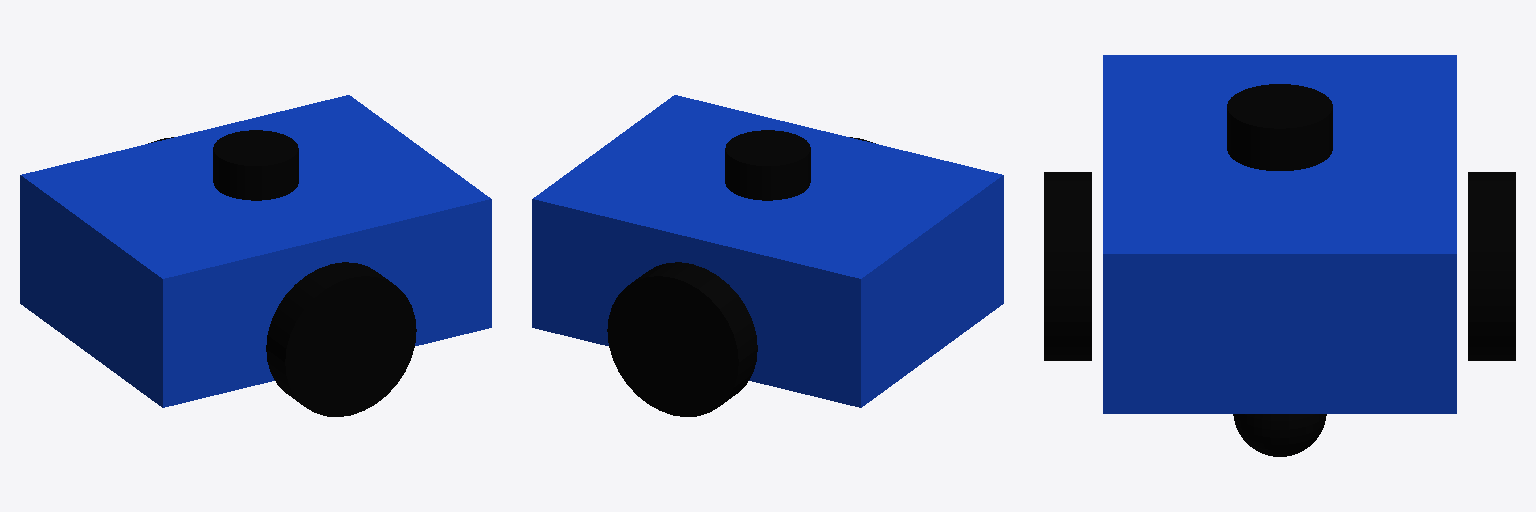
robot.urdf — lidar_bot:
<?xml version="1.0"?>

<robot name="lidar_bot">

  <!-- ========================= -->
  <!-- BASE FOOTPRINT             -->
  <!-- ========================= -->

  <link name="base_footprint"/>

  <joint name="base_footprint_joint" type="fixed">
    <parent link="base_footprint"/>
    <child link="base_link"/>
    <origin xyz="0 0 0.05" rpy="0 0 0"/>
  </joint>


  <!-- ========================= -->
  <!-- MAIN BODY                  -->
  <!-- ========================= -->

  <link name="base_link">

    <inertial>
      <origin xyz="0 0 0" rpy="0 0 0"/>
      <mass value="5.0"/>

      <inertia
        ixx="0.10"
        ixy="0.0"
        ixz="0.0"
        iyy="0.10"
        iyz="0.0"
        izz="0.15"/>
    </inertial>

    <visual>
      <origin xyz="0 0 0" rpy="0 0 0"/>

      <geometry>
        <box size="0.40 0.30 0.15"/>
      </geometry>

      <material name="blue">
        <color rgba="0.1 0.3 0.8 1"/>
      </material>
    </visual>

    <collision>
      <origin xyz="0 0 0" rpy="0 0 0"/>

      <geometry>
        <box size="0.40 0.30 0.15"/>
      </geometry>
    </collision>

  </link>


  <!-- ========================= -->
  <!-- LEFT WHEEL                 -->
  <!-- ========================= -->

  <link name="left_wheel_link">

    <inertial>
      <mass value="0.5"/>

      <inertia
        ixx="0.001"
        ixy="0"
        ixz="0"
        iyy="0.001"
        iyz="0"
        izz="0.001"/>
    </inertial>

    <visual>
      <geometry>
        <cylinder radius="0.08" length="0.04"/>
      </geometry>

      <material name="black">
        <color rgba="0.05 0.05 0.05 1"/>
      </material>

      <origin rpy="1.5708 0 0"/>
    </visual>

    <collision>
      <geometry>
        <cylinder radius="0.08" length="0.04"/>
      </geometry>

      <origin rpy="1.5708 0 0"/>
    </collision>

  </link>


  <joint name="left_wheel_joint" type="continuous">

    <parent link="base_link"/>
    <child link="left_wheel_link"/>

    <origin xyz="0 0.18 -0.03" rpy="0 0 0"/>

    <axis xyz="0 1 0"/>

  </joint>


  <!-- ========================= -->
  <!-- RIGHT WHEEL                -->
  <!-- ========================= -->

  <link name="right_wheel_link">

    <inertial>
      <mass value="0.5"/>

      <inertia
        ixx="0.001"
        ixy="0"
        ixz="0"
        iyy="0.001"
        iyz="0"
        izz="0.001"/>
    </inertial>

    <visual>
      <geometry>
        <cylinder radius="0.08" length="0.04"/>
      </geometry>

      <material name="black"/>

      <origin rpy="1.5708 0 0"/>
    </visual>

    <collision>
      <geometry>
        <cylinder radius="0.08" length="0.04"/>
      </geometry>

      <origin rpy="1.5708 0 0"/>
    </collision>

  </link>


  <joint name="right_wheel_joint" type="continuous">

    <parent link="base_link"/>
    <child link="right_wheel_link"/>

    <origin xyz="0 -0.18 -0.03" rpy="0 0 0"/>

    <axis xyz="0 1 0"/>

  </joint>


  <!-- ========================= -->
  <!-- FRONT CASTER               -->
  <!-- ========================= -->

  <link name="caster_link">

    <inertial>
      <mass value="0.2"/>

      <inertia
        ixx="0.0005"
        ixy="0"
        ixz="0"
        iyy="0.0005"
        iyz="0"
        izz="0.0005"/>
    </inertial>

    <visual>

      <geometry>
        <sphere radius="0.04"/>
      </geometry>

      <material name="black"/>

    </visual>

    <collision>

      <geometry>
        <sphere radius="0.04"/>
      </geometry>

    </collision>

  </link>


  <joint name="caster_joint" type="fixed">

    <parent link="base_link"/>
    <child link="caster_link"/>

    <origin xyz="0.16 0 -0.09" rpy="0 0 0"/>

  </joint>


  <!-- ========================= -->
  <!-- LIDAR                      -->
  <!-- ========================= -->

  <link name="lidar_link">

    <visual>

      <geometry>
        <cylinder radius="0.045" length="0.04"/>
      </geometry>

      <material name="black"/>

    </visual>

    <collision>

      <geometry>
        <cylinder radius="0.045" length="0.04"/>
      </geometry>

    </collision>

  </link>


  <joint name="lidar_joint" type="fixed">

    <parent link="base_link"/>
    <child link="lidar_link"/>

    <!-- LiDAR is 20 cm above the ground -->
    <origin xyz="0 0 0.1" rpy="0 0 0"/>

  </joint>


  <!-- ========================= -->
  <!-- IMU                        -->
  <!-- ========================= -->

  <link name="imu_link">

    <visual>

      <geometry>
        <box size="0.04 0.04 0.02"/>
      </geometry>

      <material name="red">
        <color rgba="0.8 0.1 0.1 1"/>
      </material>

    </visual>

  </link>


  <joint name="imu_joint" type="fixed">

    <parent link="base_link"/>
    <child link="imu_link"/>

    <origin xyz="0 0 0" rpy="0 0 0"/>

  </joint>


  <!-- ========================= -->
  <!-- GAZEBO SIM LIDAR           -->
  <!-- ========================= -->

  <gazebo reference="lidar_link">

    <sensor name="lidar" type="gpu_lidar">

    <frame_id>lidar_link</frame_id>
    <gz_frame_id>lidar_link</gz_frame_id>

      <pose>0 0 0 0 0 0</pose>

      <update_rate>10</update_rate>

      <topic>/scan</topic>

      <ray>

        <scan>

          <horizontal>

            <samples>720</samples>

            <resolution>1</resolution>

            <min_angle>-3.14159</min_angle>

            <max_angle>3.14159</max_angle>

          </horizontal>

        </scan>

        <range>

          <min>0.12</min>
          <max>12.0</max>
          <resolution>0.01</resolution>

        </range>

      </ray>

    </sensor>

  </gazebo>


  <!-- ========================= -->
  <!-- GAZEBO SIM IMU             -->
  <!-- ========================= -->

  <gazebo reference="imu_link">

    <sensor name="imu_sensor" type="imu">

      <always_on>true</always_on>

      <update_rate>100</update_rate>

      <topic>/imu</topic>

    </sensor>

  </gazebo>

<!-- ===================================================== -->
<!-- ROS 2 CONTROL                                         -->
<!-- ===================================================== -->

<ros2_control name="GazeboSystem" type="system">

  <hardware>
    <plugin>gz_ros2_control/GazeboSimSystem</plugin>
  </hardware>

  <!-- LEFT WHEEL -->
  <joint name="left_wheel_joint">

    <command_interface name="velocity">
      <param name="min">-20</param>
      <param name="max">20</param>
    </command_interface>

    <state_interface name="position"/>
    <state_interface name="velocity"/>

  </joint>


  <!-- RIGHT WHEEL -->
  <joint name="right_wheel_joint">

    <command_interface name="velocity">
      <param name="min">-20</param>
      <param name="max">20</param>
    </command_interface>

    <state_interface name="position"/>
    <state_interface name="velocity"/>

  </joint>

</ros2_control>
  <gazebo>
    <plugin filename="libgz_ros2_control-system.so"
            name="gz_ros2_control::GazeboSimROS2ControlPlugin">
      <parameters>/home/iamironman/ros2/src/robo/config/config.yaml</parameters>
    </plugin>
  </gazebo>
  <gazebo reference="caster_link">
  <mu1 value="0.001"/>
  <mu2 value="0.001"/>
</gazebo>
</robot>

--- Facts derived from the render (not from the file) ---
Views: 3 orthographic renders of the robot side by side, from view 1: azimuth 30°, elevation 25°; view 2: azimuth 150°, elevation 25°; view 3: azimuth 270°, elevation 25°.
Robot: lidar_bot — 7 links, 6 joints (2 continuous, 4 fixed); root link base_footprint; default pose: every joint at zero.
Visible links, largest first — view 1: base_link, right_wheel_link, lidar_link; view 2: base_link, left_wheel_link, lidar_link; view 3: base_link, left_wheel_link, right_wheel_link, lidar_link, caster_link.
Link boxes in pixels (x1,y1,x2,y2): base_link: (20,95,491,407); right_wheel_link: (266,262,416,416); lidar_link: (213,130,298,200); base_link: (532,95,1003,407); left_wheel_link: (607,262,757,416); lidar_link: (725,130,810,200); base_link: (1103,55,1456,413); left_wheel_link: (1468,172,1515,360); right_wheel_link: (1044,172,1091,360); lidar_link: (1227,84,1332,170); caster_link: (1233,414,1326,456).
Size in the robot's own frame: 0.4 by 0.4 by 0.25 metres.
Geometry: primitives only (box / cylinder / sphere), no mesh files.
